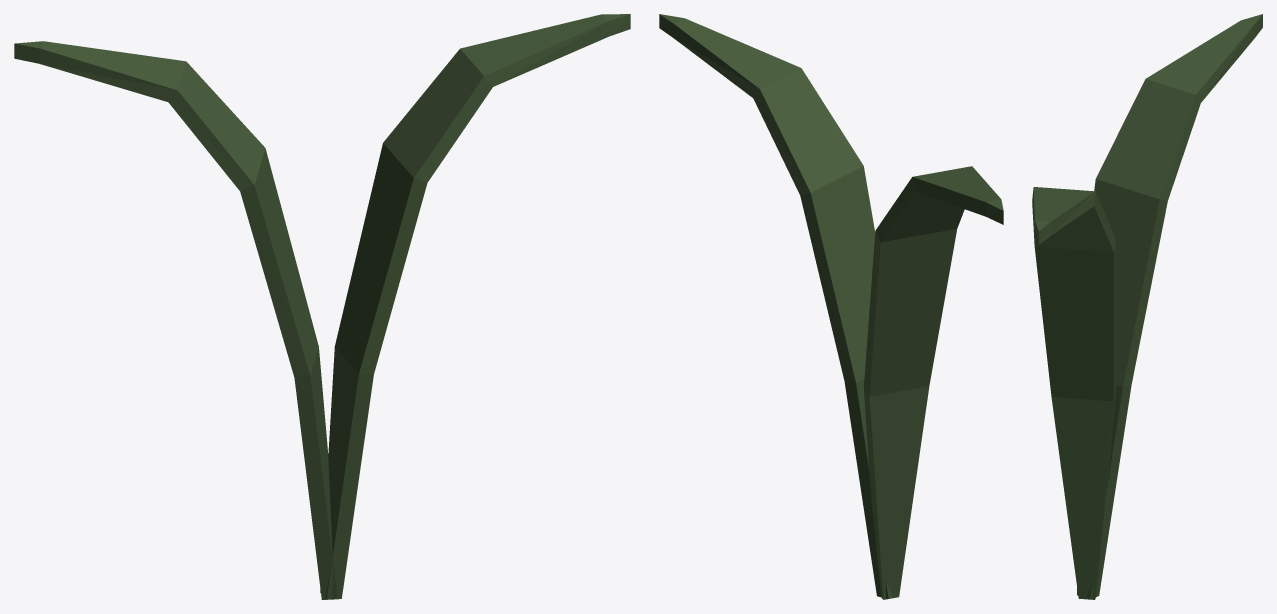
Rendered from tree_apple.s1.glb.
3 views of the same model, side by side, from view 1: azimuth 30°, elevation 25°; view 2: azimuth 150°, elevation 25°; view 3: azimuth 270°, elevation 25° (orthographic). The views are drawn at different scales.
Size of the model in its own units: 0.0861 by 0.0895 by 0.0386.
